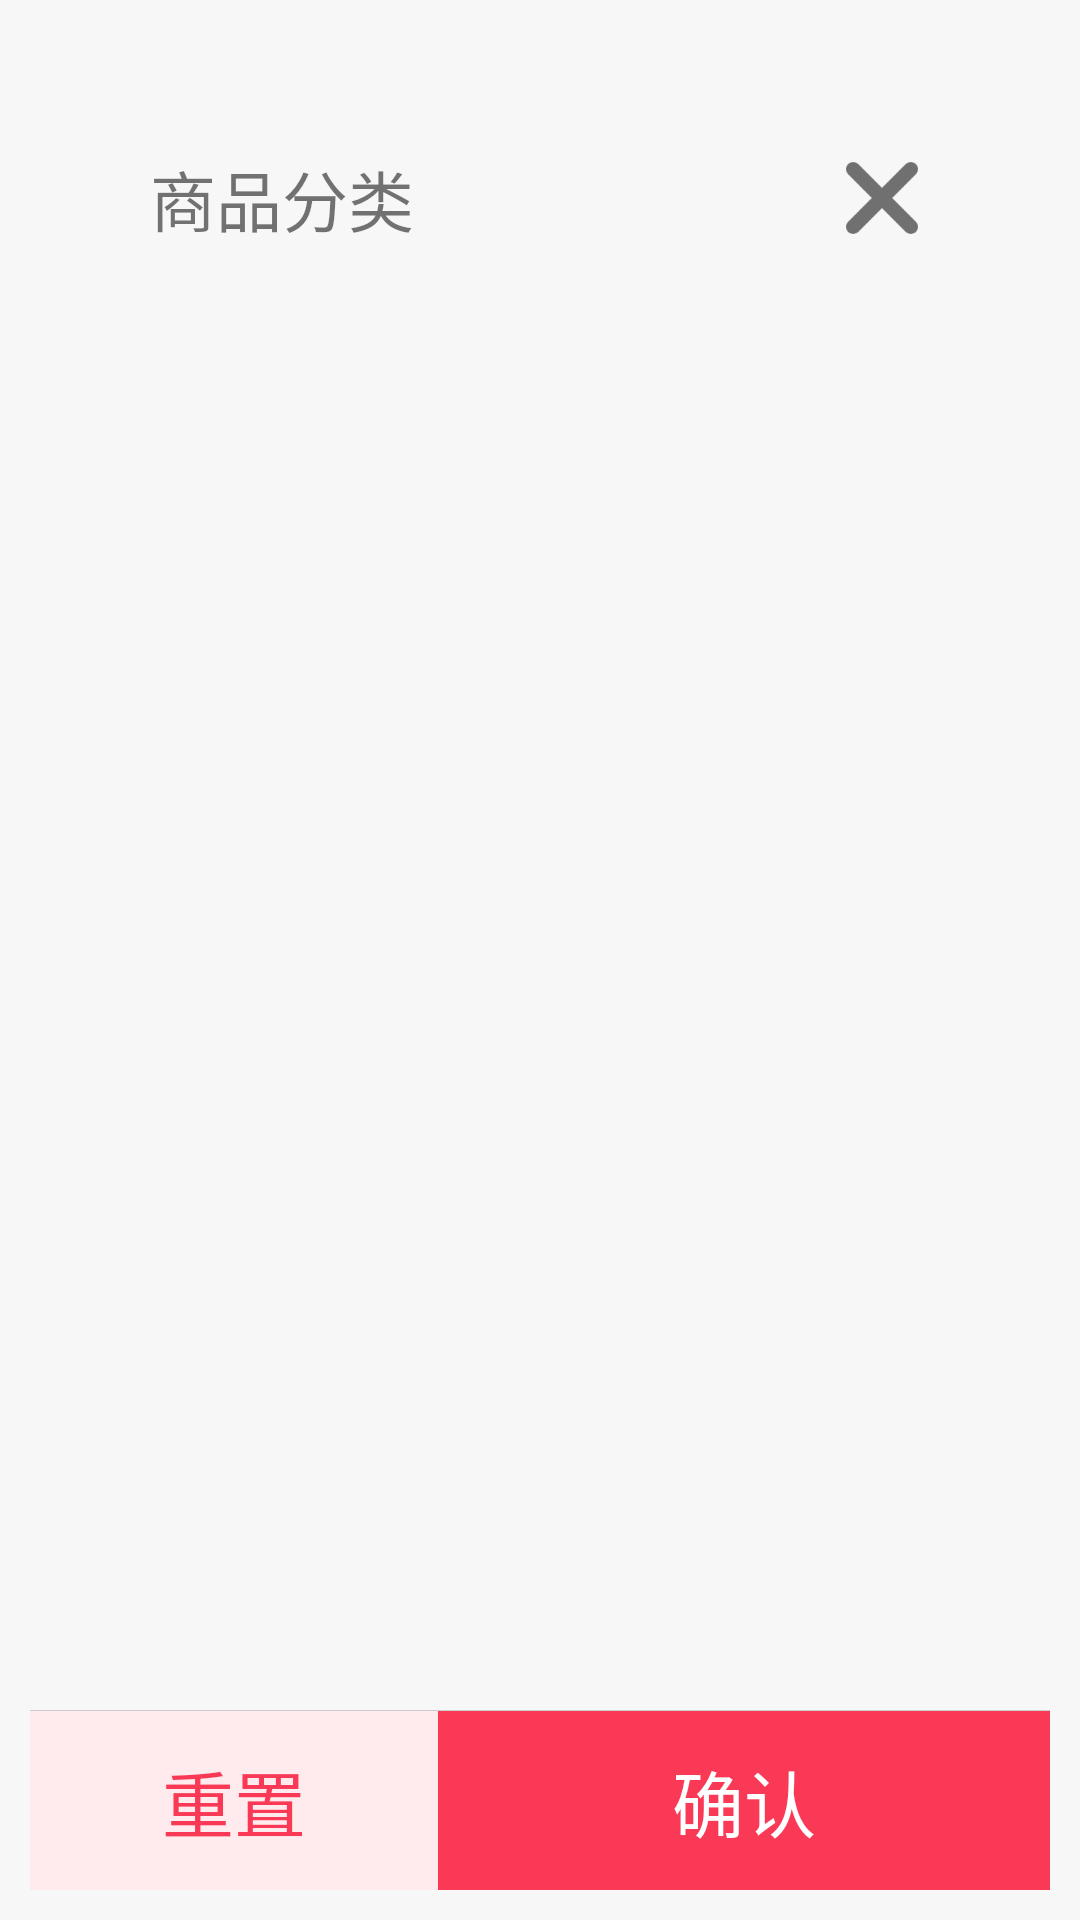

Icons on this 1080w x 1920h Android screen, each with the point to tap as (x,y):
close: (882,198)
